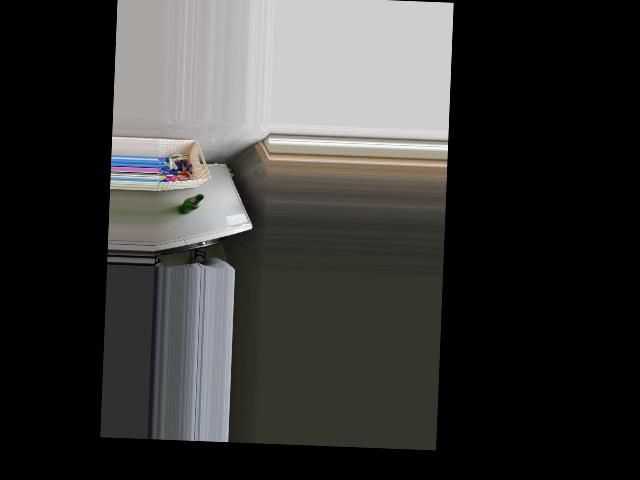beer: (178, 193, 204, 215)
